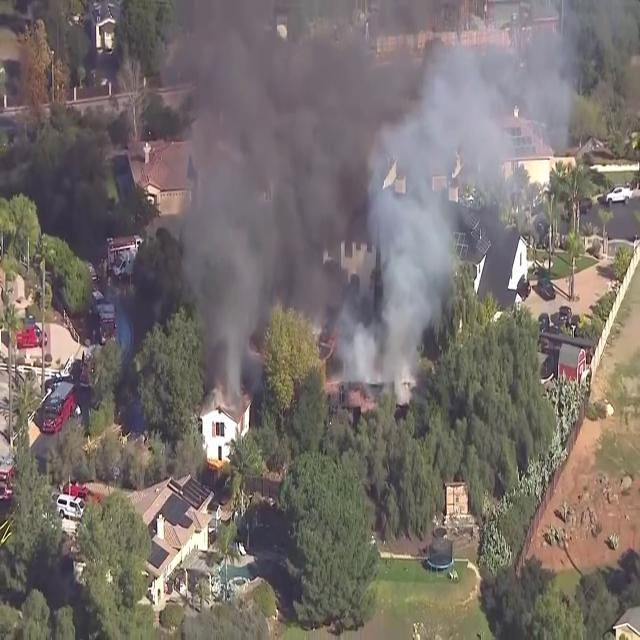Smoke: (151, 0, 571, 385)
